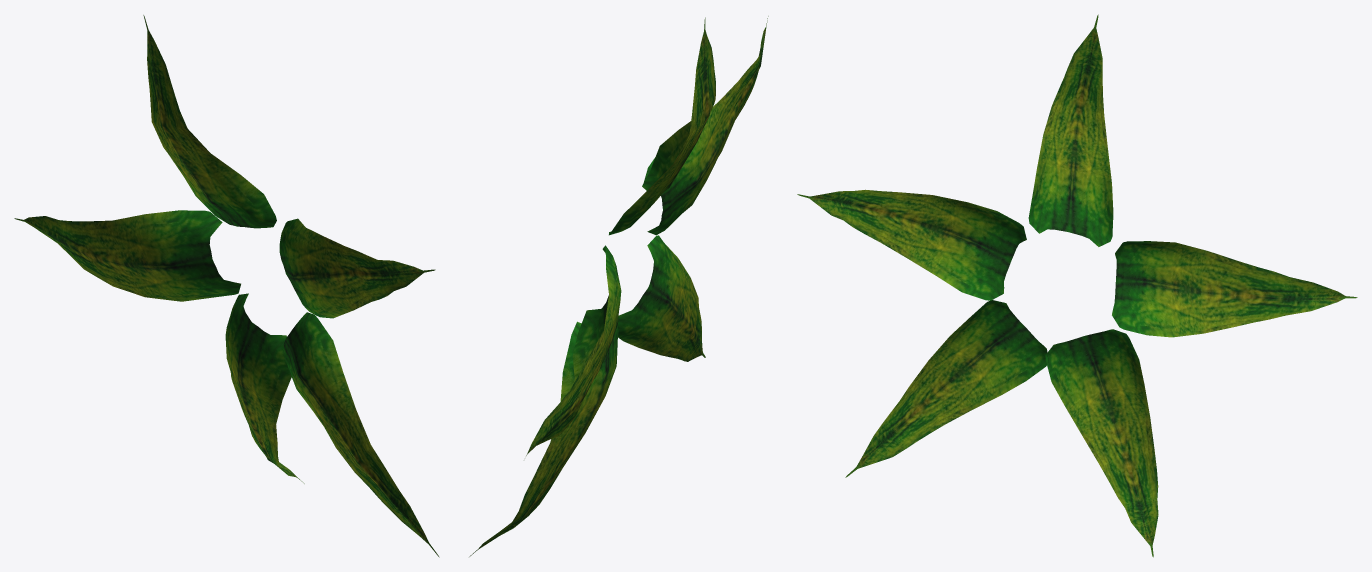
Rendered from RoseCalyx.obj.
3 renders of one model, left to right at view 1: azimuth 30°, elevation 25°; view 2: azimuth 150°, elevation 25°; view 3: azimuth 270°, elevation 25°, orthographic. The views are drawn at different scales.
Parts seen in each view (by area): view 1: RoseCalyx; view 2: RoseCalyx; view 3: RoseCalyx.
Boxes of the visible parts, x1,y1,x2,y2 form: RoseCalyx: (14,15,439,557); RoseCalyx: (469,16,768,556); RoseCalyx: (797,14,1357,557).
Bounding box in the file's own units: 0.0171 × 0.0455 × 0.05.
1 material, 1 textured.
